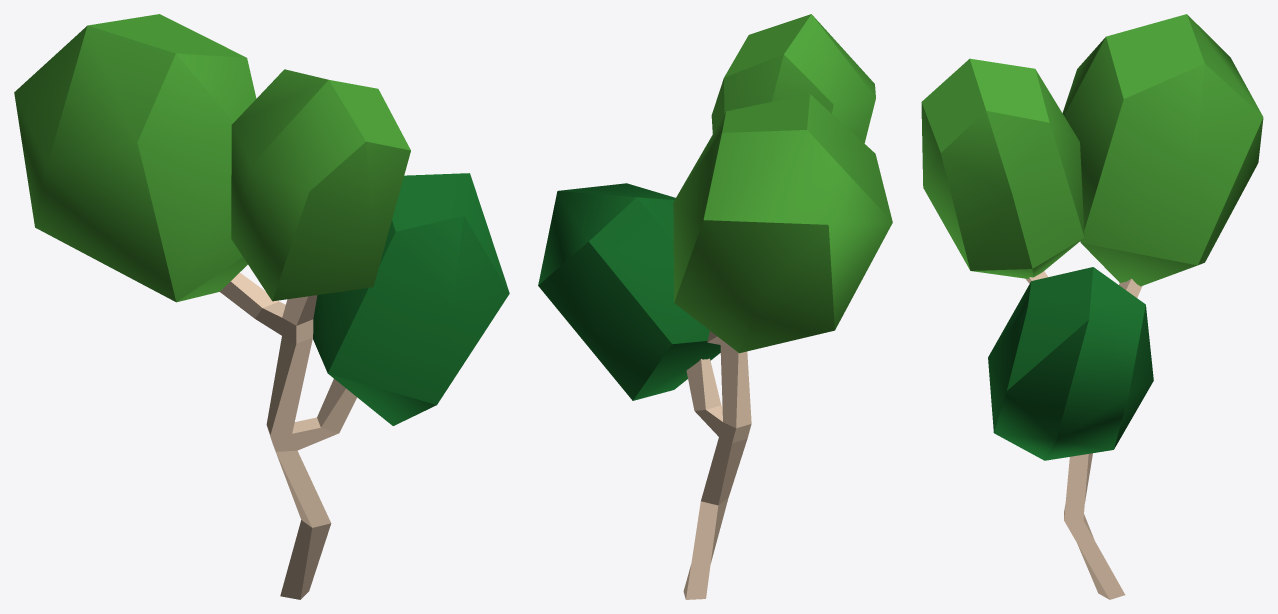
The model's file is tree.fbx.
3 views of the same model, side by side, from view 1: azimuth 30°, elevation 25°; view 2: azimuth 150°, elevation 25°; view 3: azimuth 270°, elevation 25° (orthographic). The views are drawn at different scales.
Parts seen in each view (by area): view 1: Cube.092, Cube.090, Cube.093, tree.001; view 2: Cube.092, Cube.093, Cube.090, tree.001; view 3: Cube.092, Cube.090, Cube.093, tree.001.
Boxes of the visible parts, box(x1,y1,x2,y2) form: Cube.092: box(14, 14, 256, 302); Cube.090: box(231, 69, 410, 301); Cube.093: box(313, 173, 509, 425); tree.001: box(220, 272, 356, 599); Cube.092: box(673, 94, 892, 353); Cube.093: box(538, 183, 720, 400); Cube.090: box(711, 14, 875, 143); tree.001: box(683, 331, 751, 599); Cube.092: box(1062, 14, 1263, 286); Cube.090: box(921, 58, 1084, 278); Cube.093: box(988, 267, 1153, 460); tree.001: box(1025, 271, 1142, 599).
Bounding box in the file's own units: 414 × 584 × 351.
